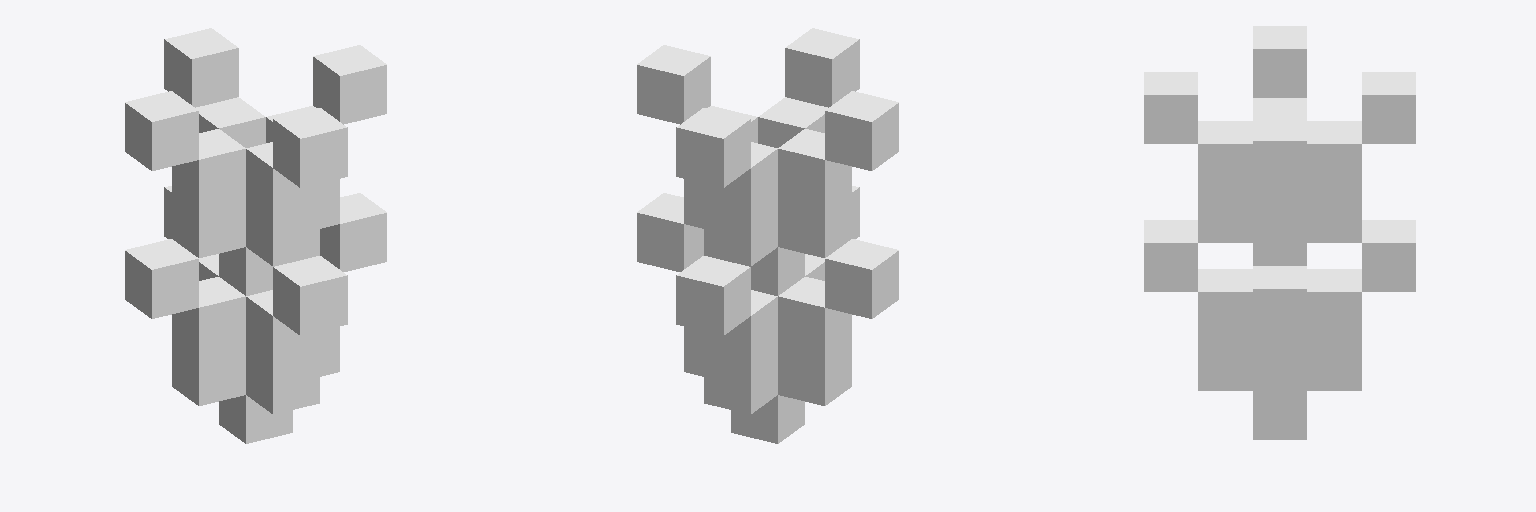
Rendered from corn_medium.obj.
The picture shows the model from 3 angles: view 1: azimuth 30°, elevation 25°; view 2: azimuth 150°, elevation 25°; view 3: azimuth 270°, elevation 25°; orthographic projection.
Parts seen in each view (by area): view 1: object 1; view 2: object 1; view 3: object 1.
Boxes of the visible parts, x1=… form: object 1: x1=125, y1=28, x2=386, y2=443; object 1: x1=637, y1=28, x2=898, y2=443; object 1: x1=1144, y1=26, x2=1415, y2=439.
Size of the model in its own units: 0.5 by 0.7 by 0.5.